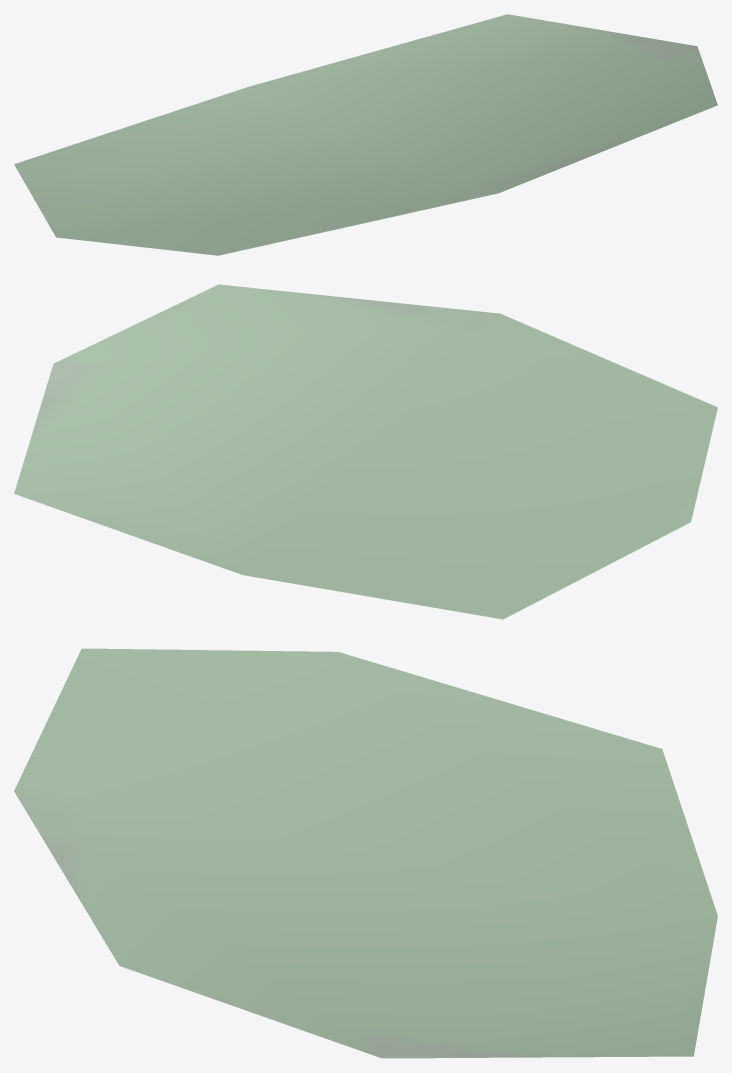
File: TROLLHOLE02_HOLECAP31.fbx
3 views of the same model, one above another, from view 1: azimuth 30°, elevation 25°; view 2: azimuth 150°, elevation 25°; view 3: azimuth 270°, elevation 25° (orthographic). The views are drawn at different scales.
Visible parts, largest first — view 1: TROLLHOLE02_HOLECAP31; view 2: TROLLHOLE02_HOLECAP31; view 3: TROLLHOLE02_HOLECAP31.
Part boxes in pixels (x1,y1,x2,y2): TROLLHOLE02_HOLECAP31: [14, 14, 717, 255]; TROLLHOLE02_HOLECAP31: [14, 284, 717, 619]; TROLLHOLE02_HOLECAP31: [14, 648, 717, 1058].
Size of the model in its own units: 28597 by 3641 by 19694.
1 material, 1 textured.
